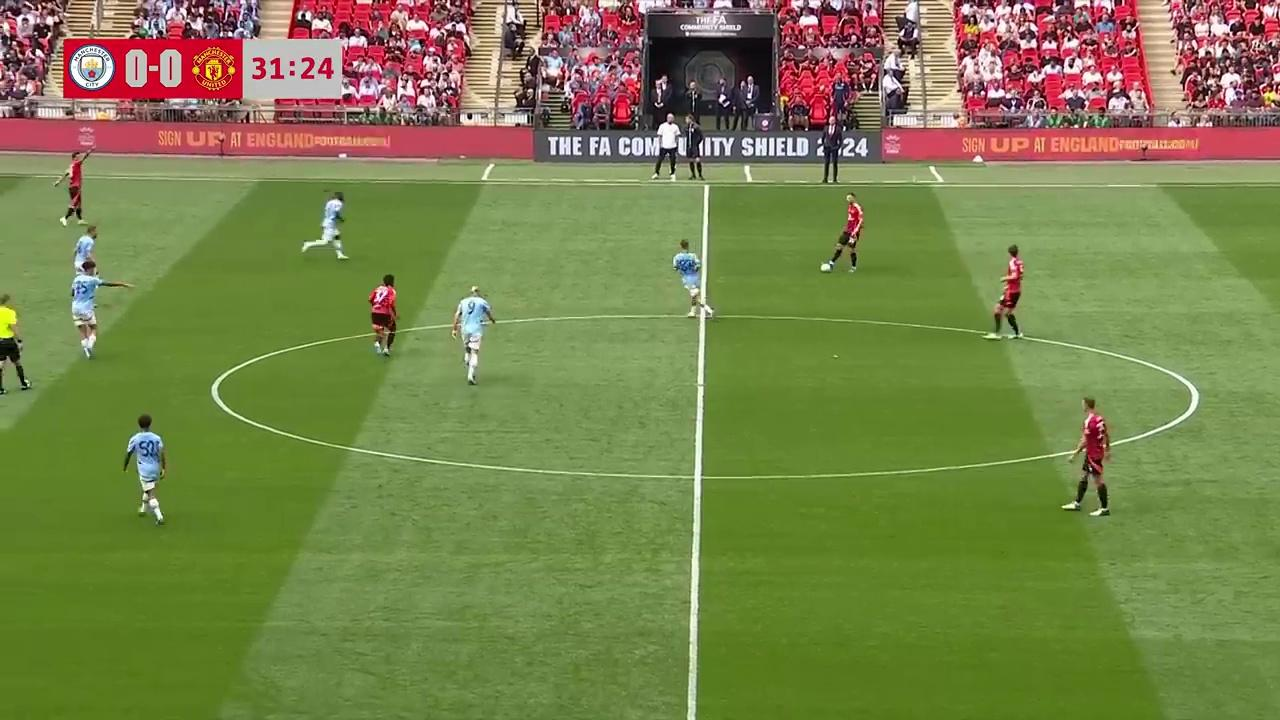ball: (819, 259, 832, 274)
player: (1063, 402, 1112, 514), (122, 413, 167, 526), (981, 244, 1024, 347), (457, 289, 494, 386), (673, 239, 714, 319), (822, 194, 864, 272), (301, 191, 348, 260), (70, 270, 98, 357), (368, 274, 398, 355), (53, 152, 84, 227), (73, 225, 100, 286)
referee: (0, 293, 34, 394)
